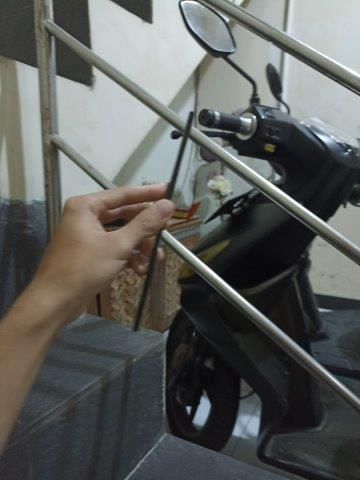sedotan: (133, 112, 195, 333)
